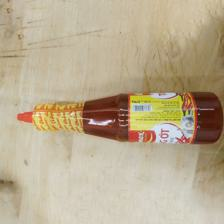Tuong: (15, 89, 223, 146)
